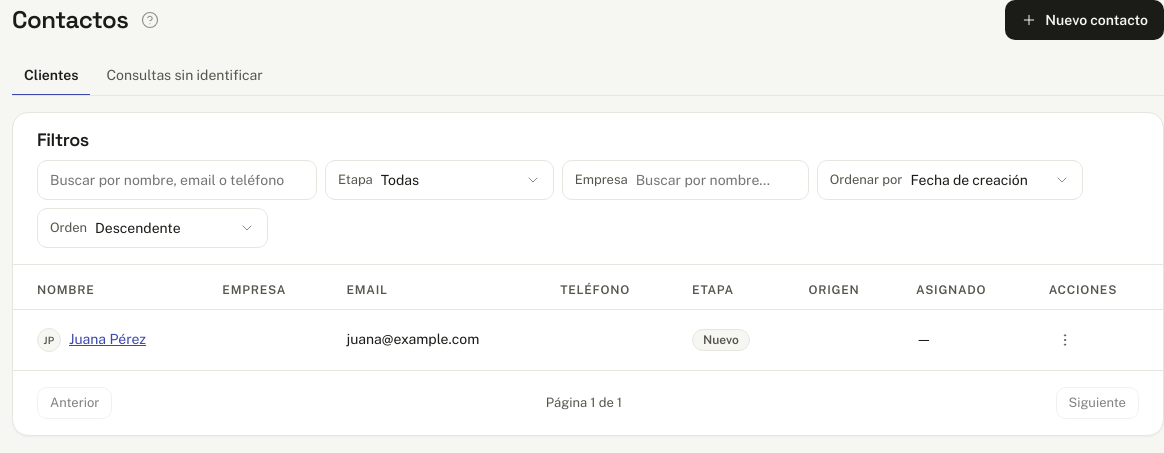
Scenario: ContactListPage — pestañas › Clientes pide vista=clientes y la pestaña de consultas cambia la URL y pide vista=consultas
expect the link "Juana Pérez" is shown: met, box [69,329,146,350]
Click the tab "Consultas sin identificar".
click(185, 76)  # box [94,56,275,96]
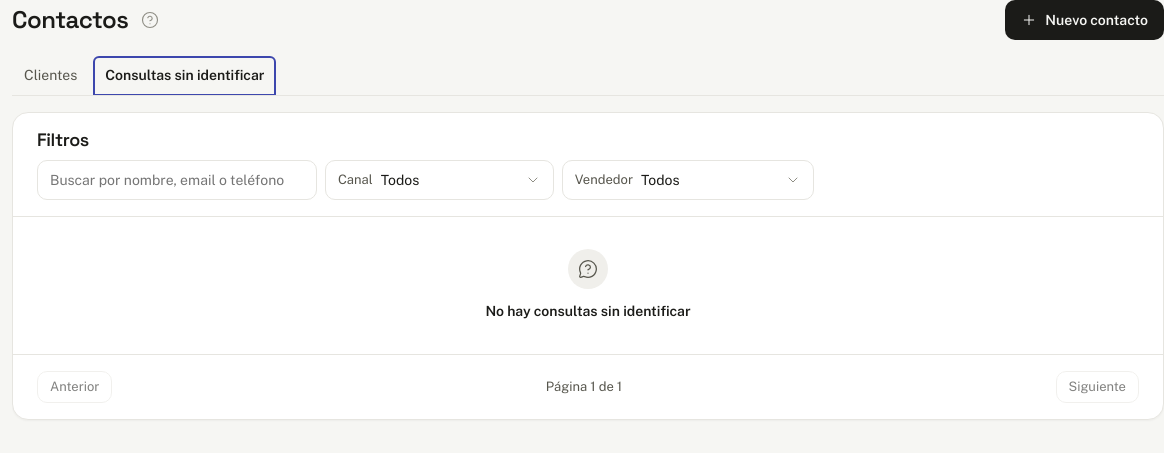
expect the text "No hay consultas sin identificar" is shown: met, box [485,300,691,322]
expect the link "Juana Pérez" is gone: met
